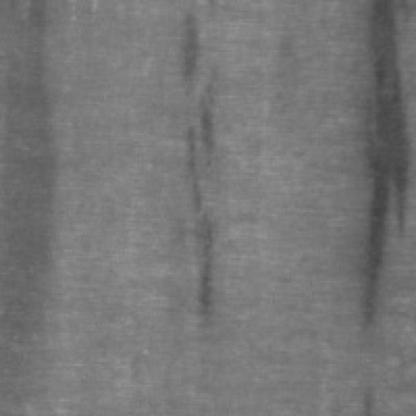inclusion: (347, 2, 412, 339), (0, 10, 62, 343), (172, 58, 222, 337), (170, 6, 198, 94)
